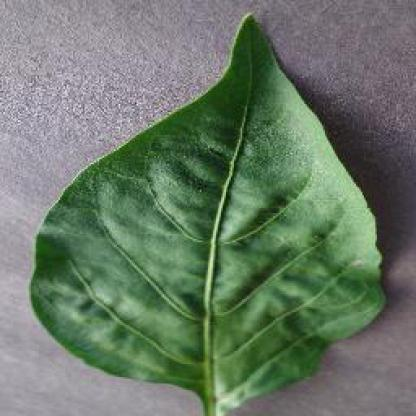good leaf: (39, 23, 414, 414), (104, 121, 310, 310), (15, 233, 244, 394), (178, 196, 396, 352), (153, 32, 309, 213)
